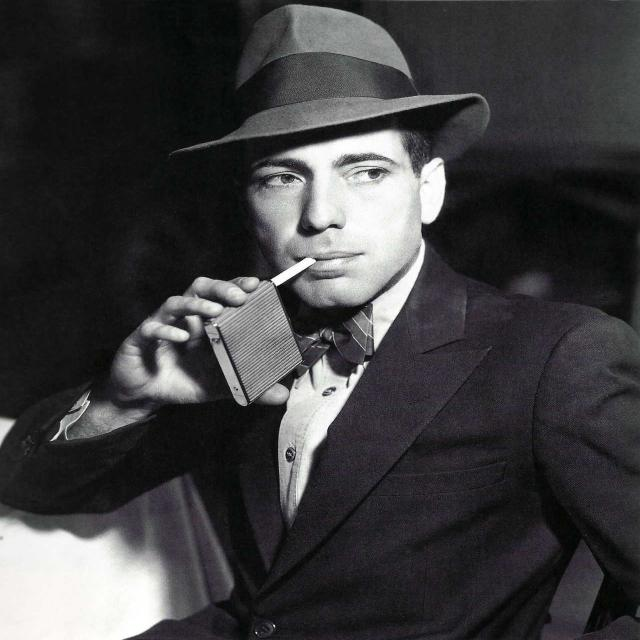Smooking: (246, 252, 314, 291)
